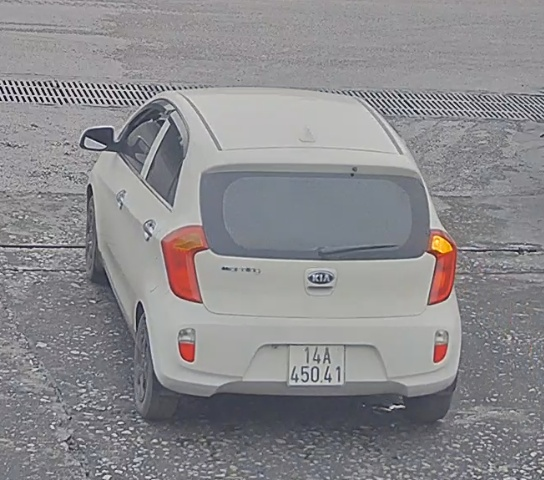vehicle plate: (281, 340, 353, 396)
